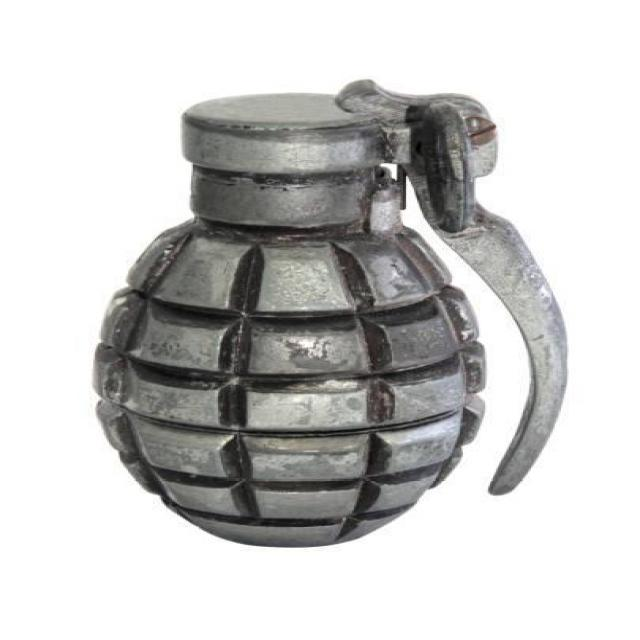Grenade: (90, 77, 571, 547)
